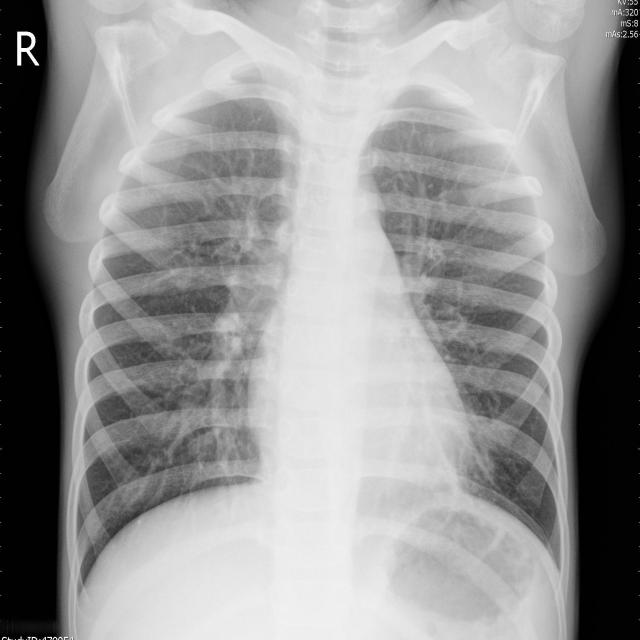low-pneumonia: (212, 204, 290, 385), (406, 238, 455, 313)
